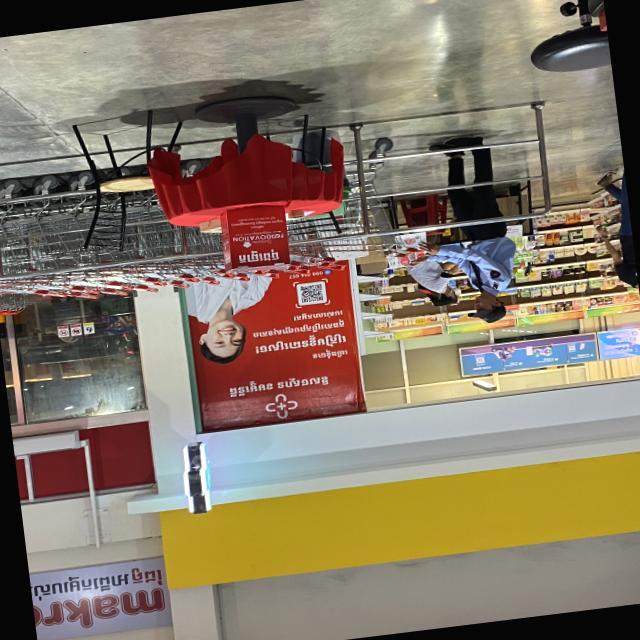1: (225, 371, 332, 402)
502: (287, 269, 323, 279)
Yolov11_80vkh: (34, 563, 167, 601), (252, 331, 347, 357), (248, 317, 348, 340), (288, 307, 345, 324), (236, 246, 280, 265), (309, 346, 350, 361)
